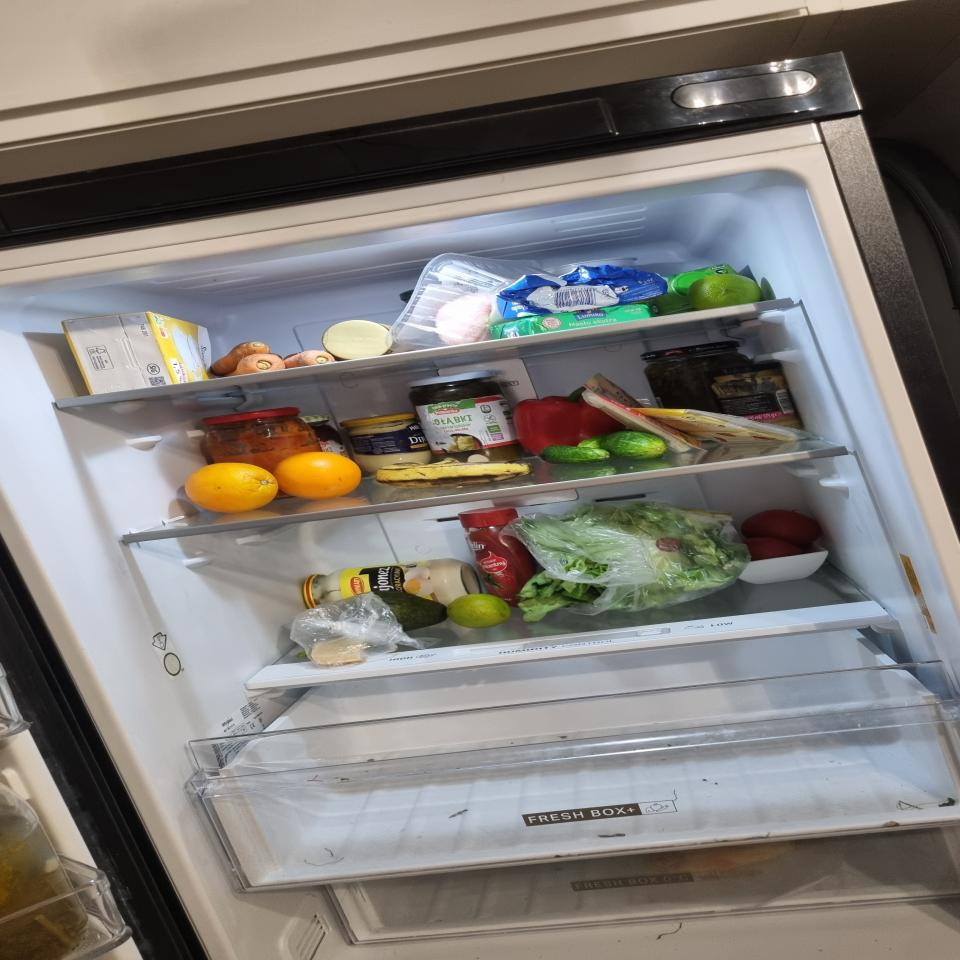Aguacate: (371, 588, 452, 634)
Leche: (58, 310, 214, 394)
Lechuga/Endivia: (516, 502, 736, 618)
Mantequilla: (489, 264, 667, 315), (490, 304, 654, 340)
Pepino: (536, 430, 670, 464)
Plátano: (375, 461, 531, 487)
Queso: (633, 408, 796, 442), (311, 636, 364, 664)
Tomate: (742, 509, 820, 544), (743, 536, 803, 561)
Zanahoria: (211, 340, 332, 376)
bell pepper: (515, 394, 617, 454)
ketchup: (455, 505, 538, 603)
lime: (690, 275, 764, 308), (452, 594, 512, 628)
mayonnaise: (302, 558, 480, 605)
mustard: (709, 361, 802, 429), (340, 412, 430, 468)
orange: (183, 451, 364, 513)
